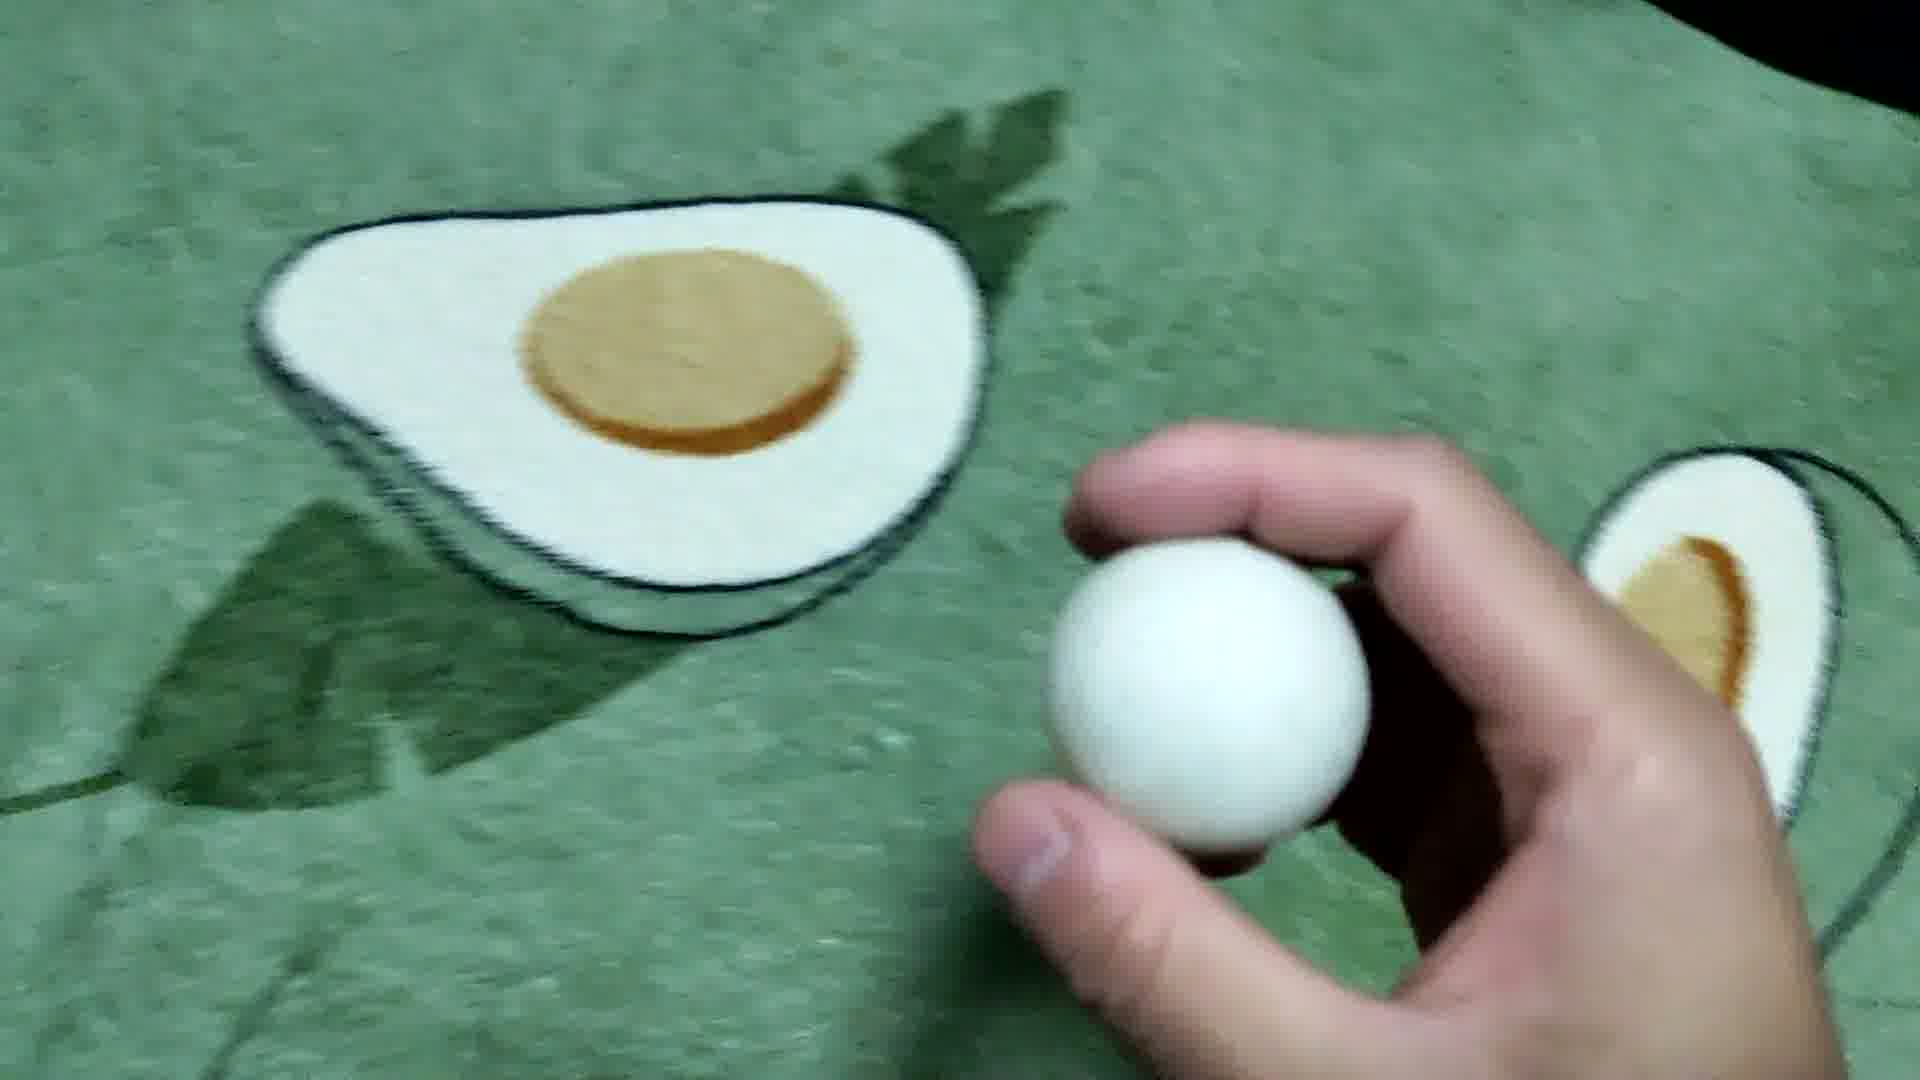Ball: (1048, 535, 1371, 853)
